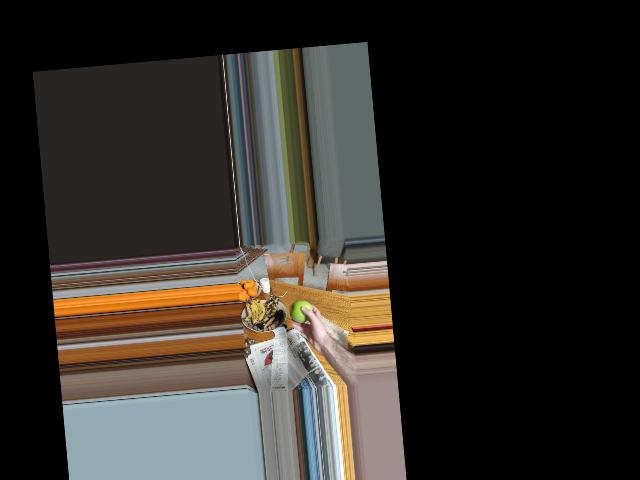apple: (288, 298, 312, 328)
